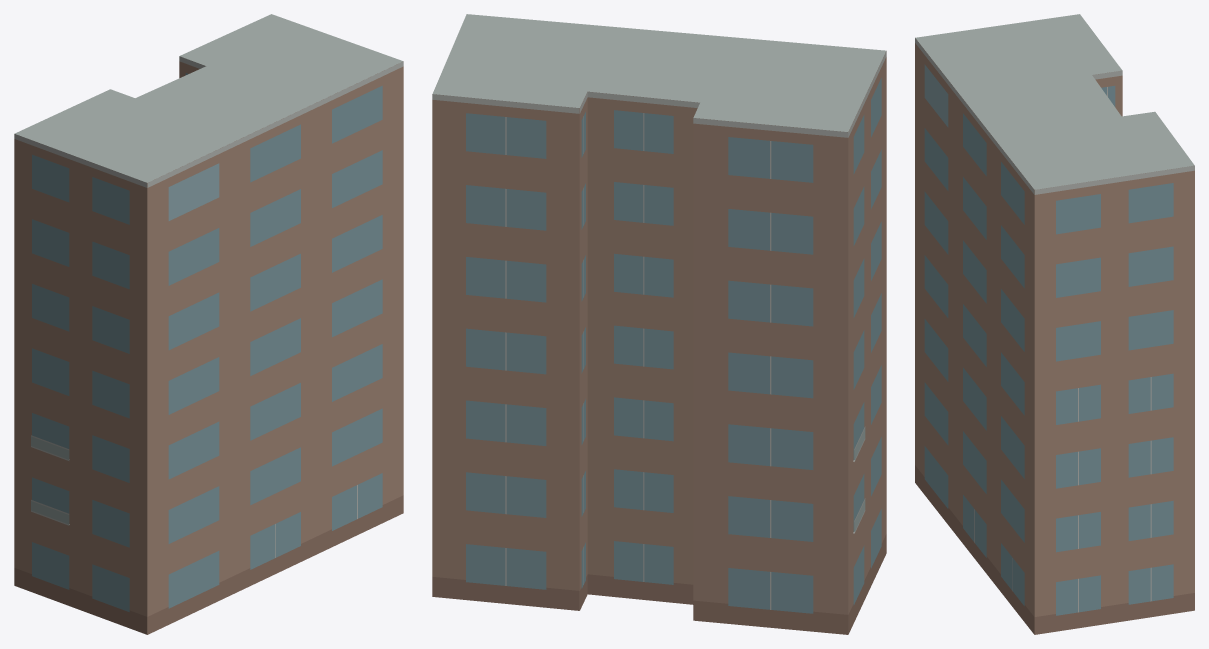
Rendered from survey-upis-32569791.glb.
The picture shows the model from 3 angles, left to right: view 1: azimuth 30°, elevation 25°; view 2: azimuth 150°, elevation 25°; view 3: azimuth 270°, elevation 25°; orthographic projection. The views are drawn at different scales.
Visible parts, largest first — view 1: survey-upis-32569791.tmp; view 2: survey-upis-32569791.tmp; view 3: survey-upis-32569791.tmp.
Boxes of the visible parts, box(x1,y1,x2,y2) form: survey-upis-32569791.tmp: box(14, 14, 403, 634); survey-upis-32569791.tmp: box(432, 14, 886, 634); survey-upis-32569791.tmp: box(915, 14, 1194, 634).
Size of the model in its own units: 18.2 by 21.45 by 12.23.
